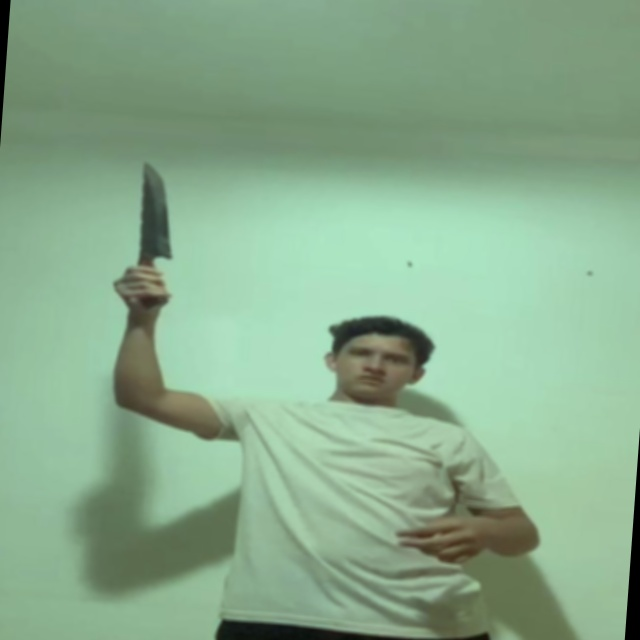Sharp-Object: (135, 163, 181, 259)
